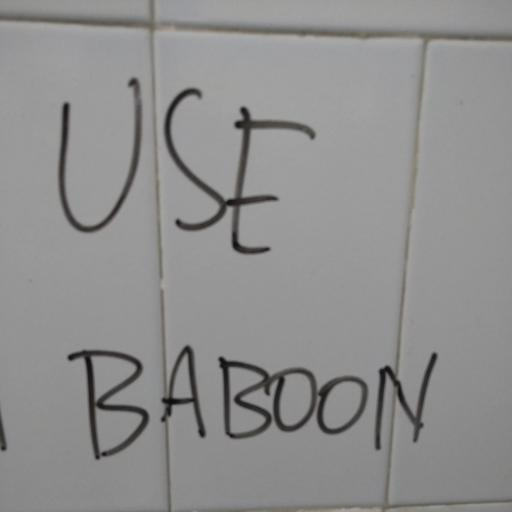stain: (44, 54, 334, 271), (64, 341, 454, 476), (0, 390, 16, 457)
